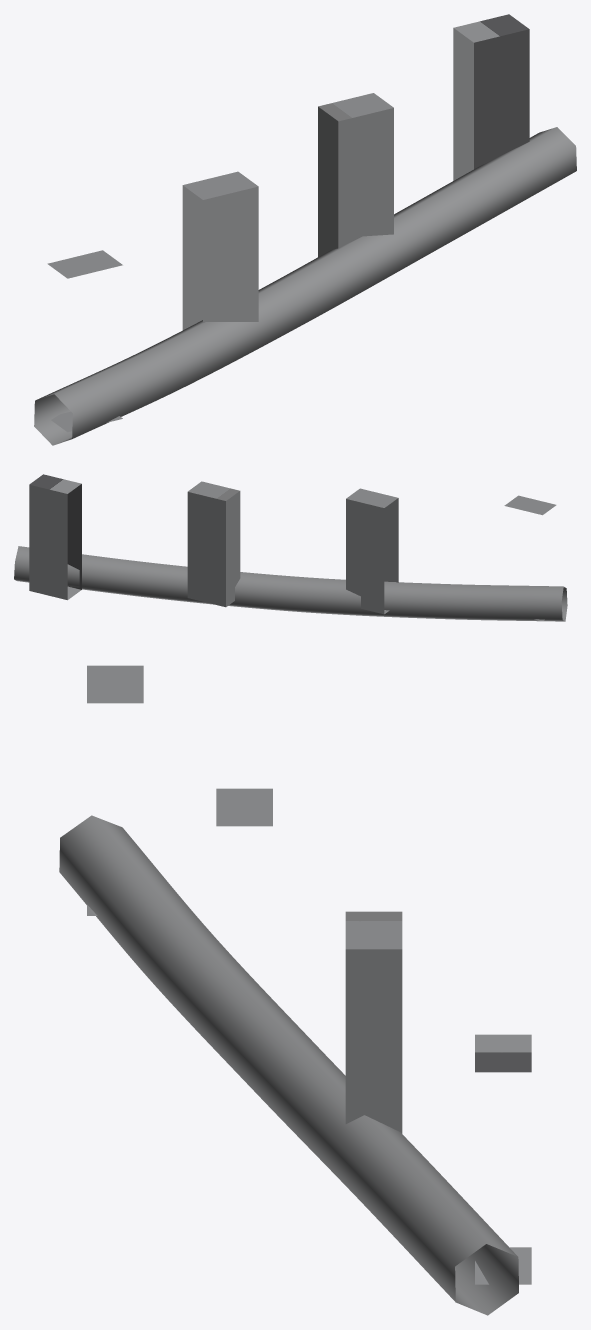
The picture shows the model from 3 angles, top to bottom: view 1: azimuth 30°, elevation 25°; view 2: azimuth 150°, elevation 25°; view 3: azimuth 270°, elevation 25°; orthographic projection. The views are drawn at different scales.
Bounding box in the file's own units: 0.726 × 0.1837 × 0.3154.
